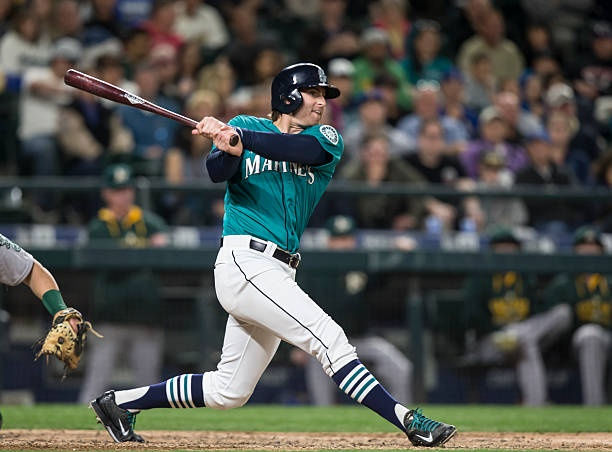bita: (65, 69, 245, 145)
